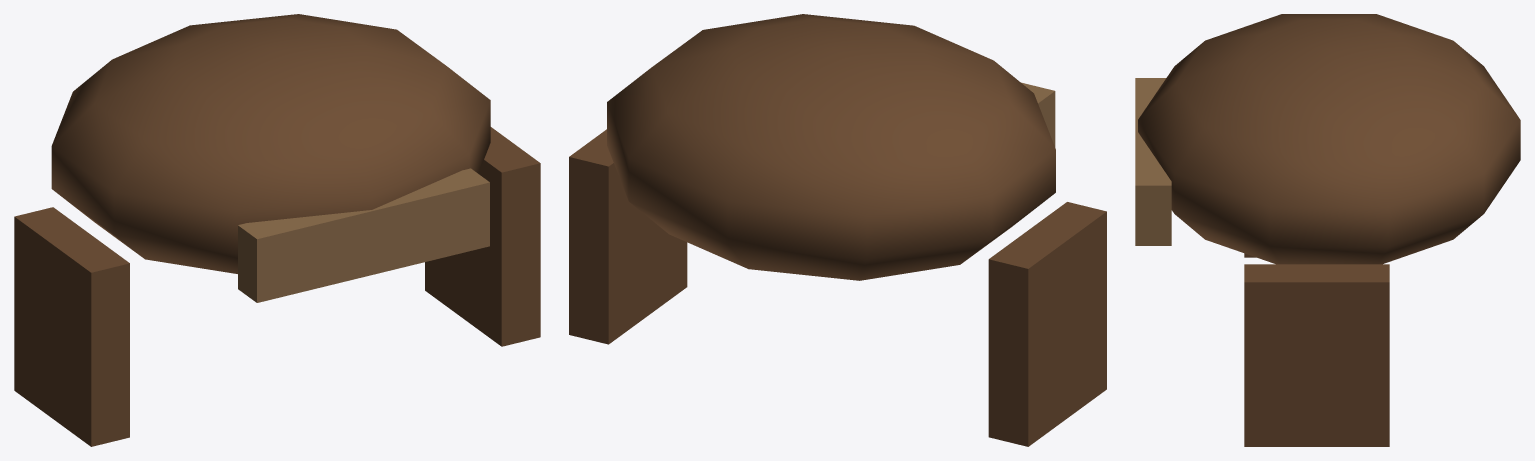
File: cat-hat-1.glb
3 renders of one model, left to right at view 1: azimuth 30°, elevation 25°; view 2: azimuth 150°, elevation 25°; view 3: azimuth 270°, elevation 25°, orthographic. The views are drawn at different scales.
Visible parts, largest first — view 1: 00_#6a4a30_r320, 02_#6a4a30_r110, 01_#8a6a48_noshadow_r110; view 2: 00_#6a4a30_r320, 02_#6a4a30_r110, 01_#8a6a48_noshadow_r110; view 3: 00_#6a4a30_r320, 02_#6a4a30_r110, 01_#8a6a48_noshadow_r110.
Boxes of the visible parts, bbox=[...] form: 00_#6a4a30_r320: bbox=[51, 14, 490, 273]; 02_#6a4a30_r110: bbox=[14, 127, 540, 446]; 01_#8a6a48_noshadow_r110: bbox=[238, 168, 489, 302]; 00_#6a4a30_r320: bbox=[607, 14, 1055, 280]; 02_#6a4a30_r110: bbox=[569, 129, 1106, 446]; 01_#8a6a48_noshadow_r110: bbox=[1021, 82, 1055, 146]; 00_#6a4a30_r320: bbox=[1138, 14, 1520, 264]; 02_#6a4a30_r110: bbox=[1244, 253, 1389, 446]; 01_#8a6a48_noshadow_r110: bbox=[1135, 78, 1171, 245].
Bounding box in the file's own units: 0.81 × 0.535 × 0.6359.
